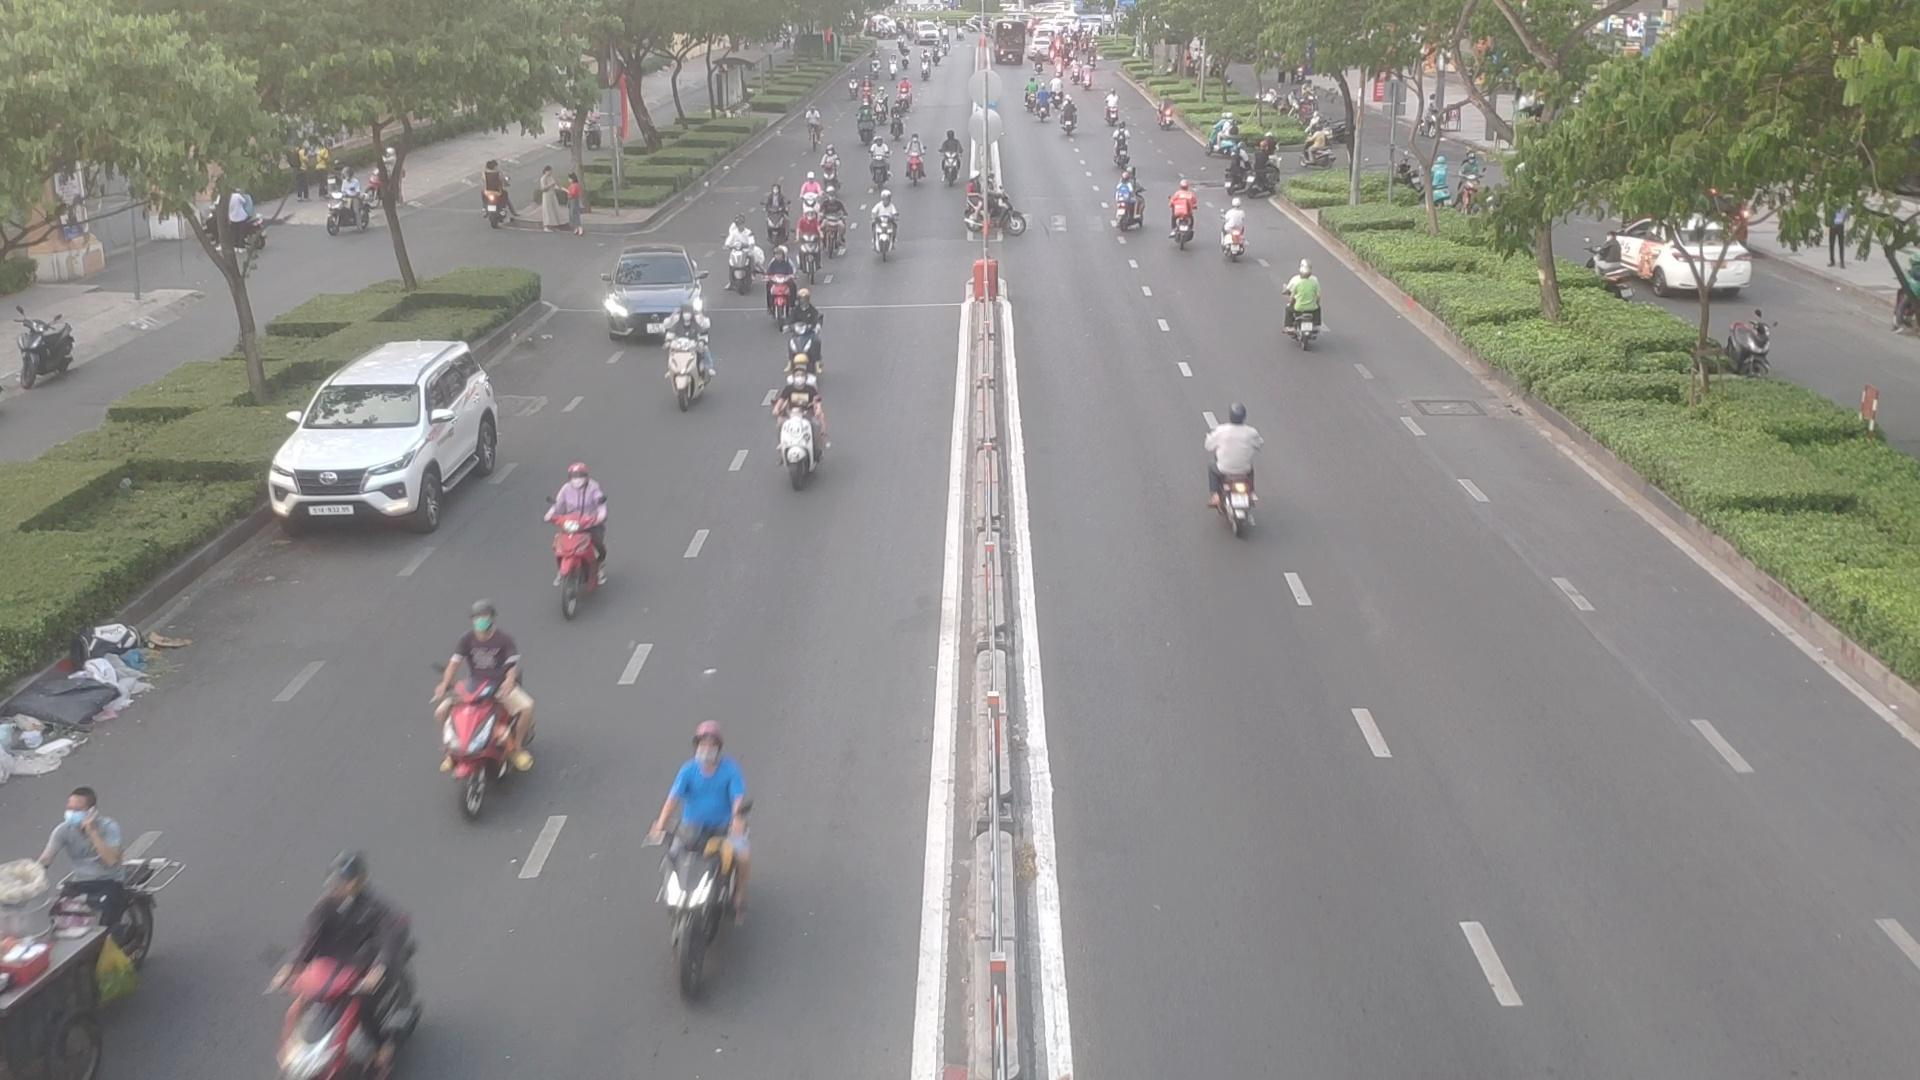car: (269, 342, 517, 531), (595, 251, 711, 344)
motorbike: (276, 866, 422, 1077), (653, 735, 753, 982), (415, 611, 539, 804), (527, 465, 613, 601), (1203, 405, 1279, 530), (44, 799, 135, 903), (771, 371, 844, 487), (662, 328, 725, 410), (1274, 266, 1333, 348), (961, 171, 1025, 243), (785, 290, 832, 368), (760, 251, 800, 316), (723, 233, 762, 294), (866, 202, 902, 266), (1166, 187, 1201, 252), (1114, 178, 1150, 233), (795, 210, 825, 273), (818, 202, 853, 255), (1216, 199, 1247, 258), (760, 185, 793, 239), (790, 175, 824, 222), (938, 128, 963, 189), (906, 138, 934, 186), (815, 142, 844, 186), (868, 137, 891, 185), (1113, 121, 1131, 169)
